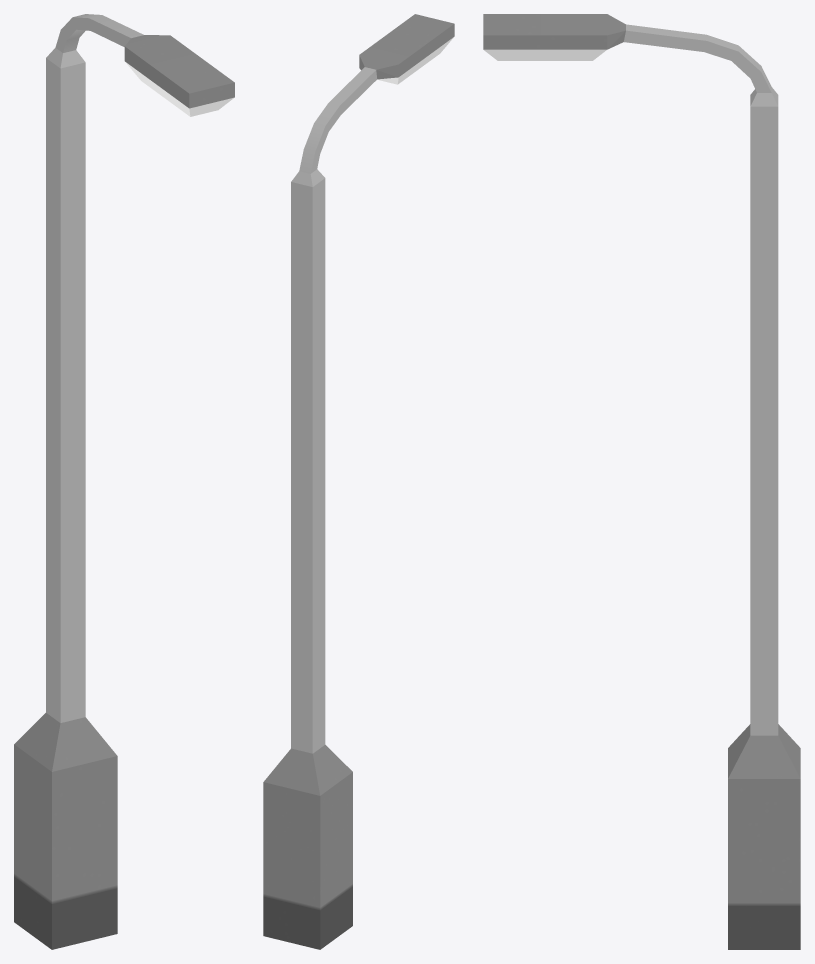
Rendered from LampPost.glb.
The picture shows the model from 3 angles, left to right: view 1: azimuth 30°, elevation 25°; view 2: azimuth 150°, elevation 25°; view 3: azimuth 270°, elevation 25°; orthographic projection. The views are drawn at different scales.
Parts seen in each view (by area): view 1: lamppost; view 2: lamppost; view 3: lamppost.
Part boxes in pixels (left/top/right/bottom): lamppost: left=14, top=14, right=234, bottom=949; lamppost: left=263, top=14, right=454, bottom=949; lamppost: left=483, top=14, right=800, bottom=949.
Bounding box in the file's own units: 0.1657 × 2.29 × 0.7231.
1 material, 1 textured.
